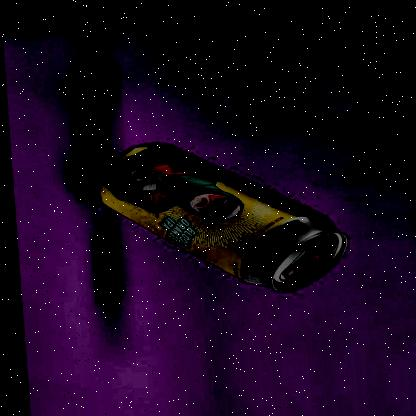Can: (82, 132, 349, 302)
